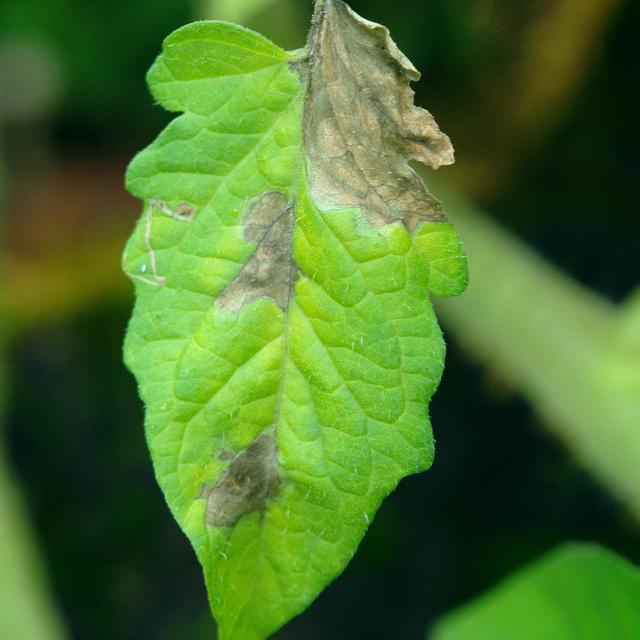Tomato leaf late blight: (109, 0, 477, 640)
